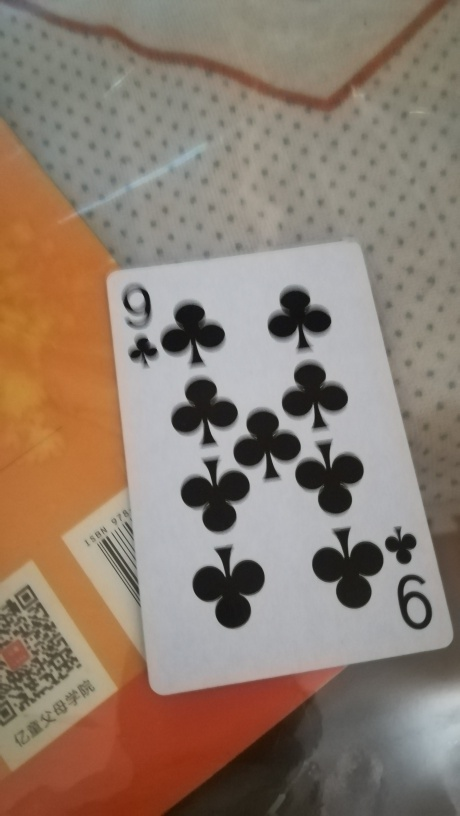mh 9: (100, 237, 454, 694)
